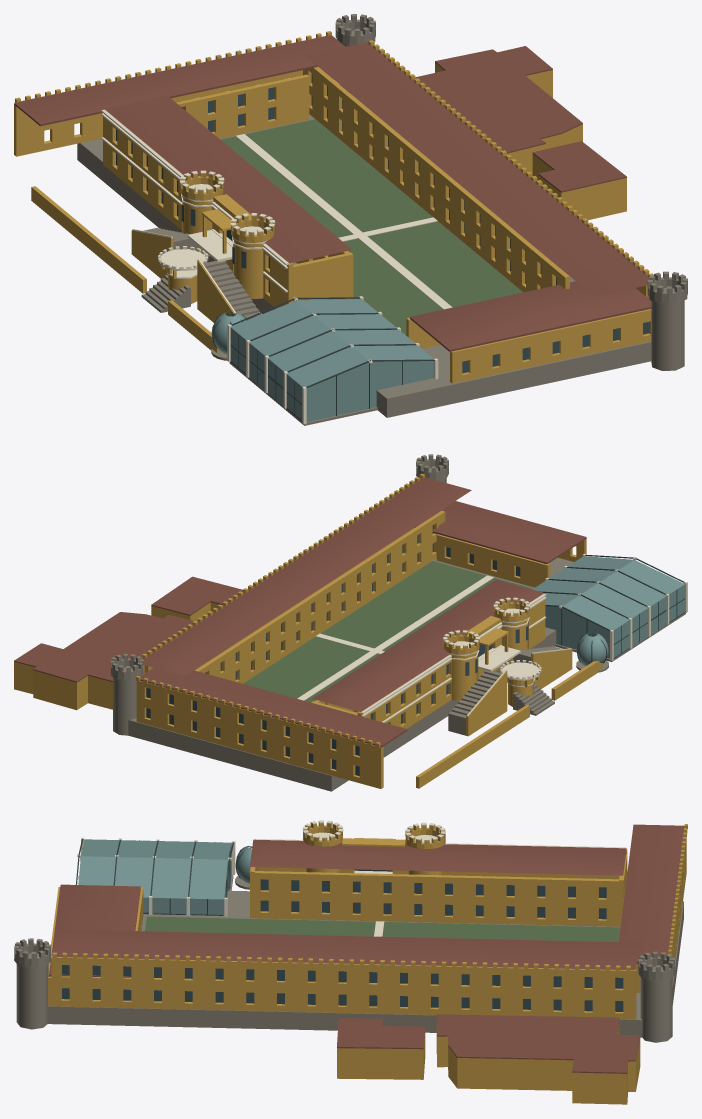
Rendered from museo-nacional-de-costa-rica-far.glb.
3 views of the same model, one above another, from view 1: azimuth 30°, elevation 25°; view 2: azimuth 150°, elevation 25°; view 3: azimuth 270°, elevation 25° (orthographic). The views are drawn at different scales.
Parts seen in each view (by area): view 1: museo-nacional-de-costa-rica-0-roof, museo-nacional-de-costa-rica-0-ochre, museo-nacional-de-costa-rica-0-garden, museo-nacional-de-costa-rica-0-stone, museo-nacional-de-costa-rica-0-glass, museo-nacional-de-costa-rica-0-cream, museo-nacional-de-costa-rica-0-window, museo-nacional-de-costa-rica-0-metal; view 2: museo-nacional-de-costa-rica-0-ochre, museo-nacional-de-costa-rica-0-roof, museo-nacional-de-costa-rica-0-stone, museo-nacional-de-costa-rica-0-glass, museo-nacional-de-costa-rica-0-garden, museo-nacional-de-costa-rica-0-cream, museo-nacional-de-costa-rica-0-window, museo-nacional-de-costa-rica-0-metal; view 3: museo-nacional-de-costa-rica-0-ochre, museo-nacional-de-costa-rica-0-roof, museo-nacional-de-costa-rica-0-stone, museo-nacional-de-costa-rica-0-glass, museo-nacional-de-costa-rica-0-garden, museo-nacional-de-costa-rica-0-window, museo-nacional-de-costa-rica-0-cream, museo-nacional-de-costa-rica-0-metal.
Boxes of the visible parts, x1,y1,x2,y2 form: museo-nacional-de-costa-rica-0-roof: (14, 35, 651, 351); museo-nacional-de-costa-rica-0-ochre: (14, 31, 653, 383); museo-nacional-de-costa-rica-0-garden: (221, 119, 522, 335); museo-nacional-de-costa-rica-0-stone: (77, 14, 687, 425); museo-nacional-de-costa-rica-0-glass: (211, 299, 433, 421); museo-nacional-de-costa-rica-0-cream: (101, 109, 452, 424); museo-nacional-de-costa-rica-0-window: (116, 73, 649, 421); museo-nacional-de-costa-rica-0-metal: (212, 297, 434, 415); museo-nacional-de-costa-rica-0-ochre: (14, 473, 603, 788); museo-nacional-de-costa-rica-0-roof: (14, 477, 586, 747); museo-nacional-de-costa-rica-0-stone: (110, 454, 685, 791); museo-nacional-de-costa-rica-0-glass: (532, 556, 685, 666); museo-nacional-de-costa-rica-0-garden: (243, 561, 532, 711); museo-nacional-de-costa-rica-0-cream: (297, 554, 687, 722); museo-nacional-de-costa-rica-0-window: (146, 525, 685, 775); museo-nacional-de-costa-rica-0-metal: (537, 554, 684, 662); museo-nacional-de-costa-rica-0-ochre: (48, 822, 687, 1104); museo-nacional-de-costa-rica-0-roof: (49, 824, 684, 1073); museo-nacional-de-costa-rica-0-stone: (14, 875, 683, 1042); museo-nacional-de-costa-rica-0-glass: (78, 839, 251, 915); museo-nacional-de-costa-rica-0-garden: (145, 916, 619, 941); museo-nacional-de-costa-rica-0-window: (62, 879, 623, 1011); museo-nacional-de-costa-rica-0-cream: (77, 820, 626, 936); museo-nacional-de-costa-rica-0-metal: (75, 839, 392, 915).
Bounding box in the file's own units: 90.96 × 14.6 × 112.
